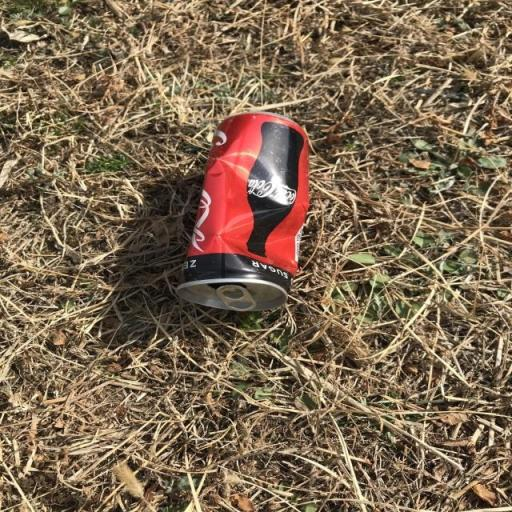metal: (150, 85, 343, 364)
